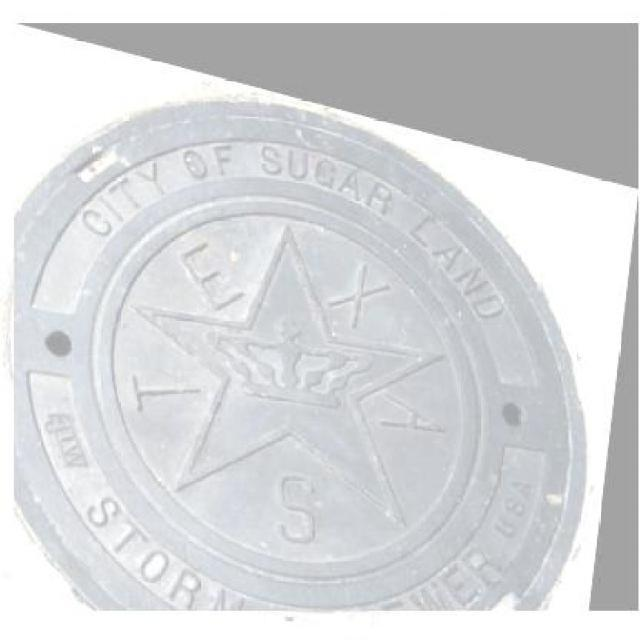Manhole: (15, 23, 640, 611)
